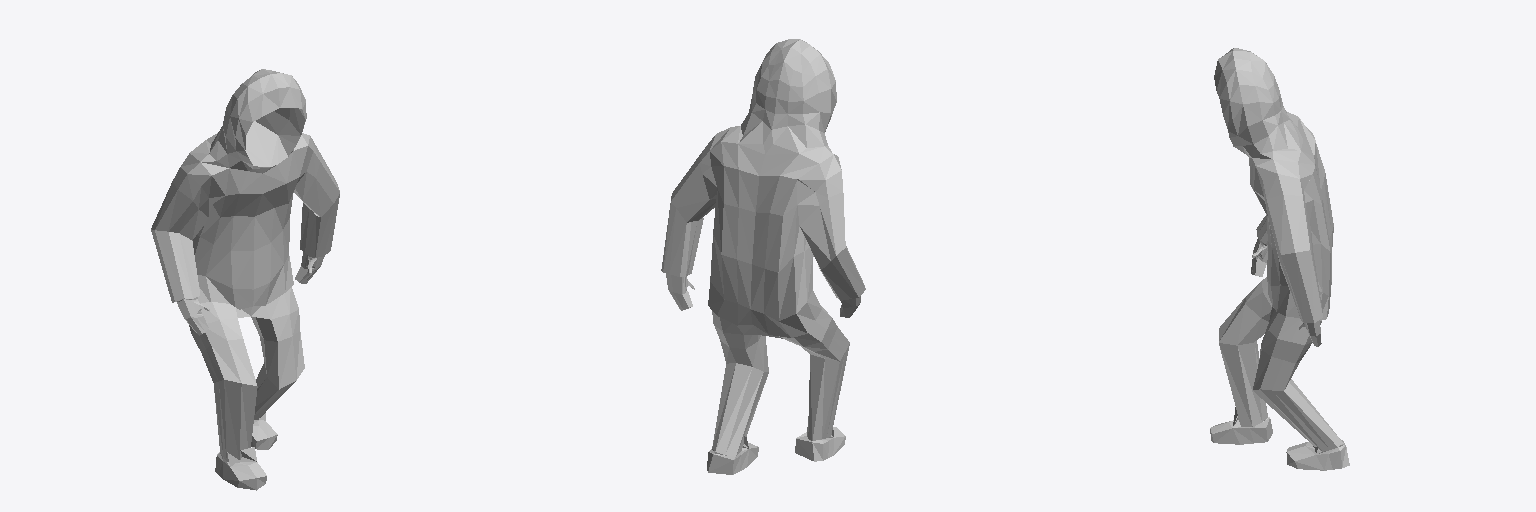
Rendered from Shadowmanv_000003.obj.
3 views of the same model, side by side, from view 1: azimuth 30°, elevation 25°; view 2: azimuth 150°, elevation 25°; view 3: azimuth 270°, elevation 25° (orthographic).
Visible parts, largest first — view 1: Cube.000; view 2: Cube.000; view 3: Cube.000.
Boxes of the visible parts, <box> form: Cube.000: <box>151,69,339,490</box>; Cube.000: <box>661,39,865,474</box>; Cube.000: <box>1210,48,1349,470</box>.
Bounding box in the file's own units: 5.09 × 10.95 × 3.44.